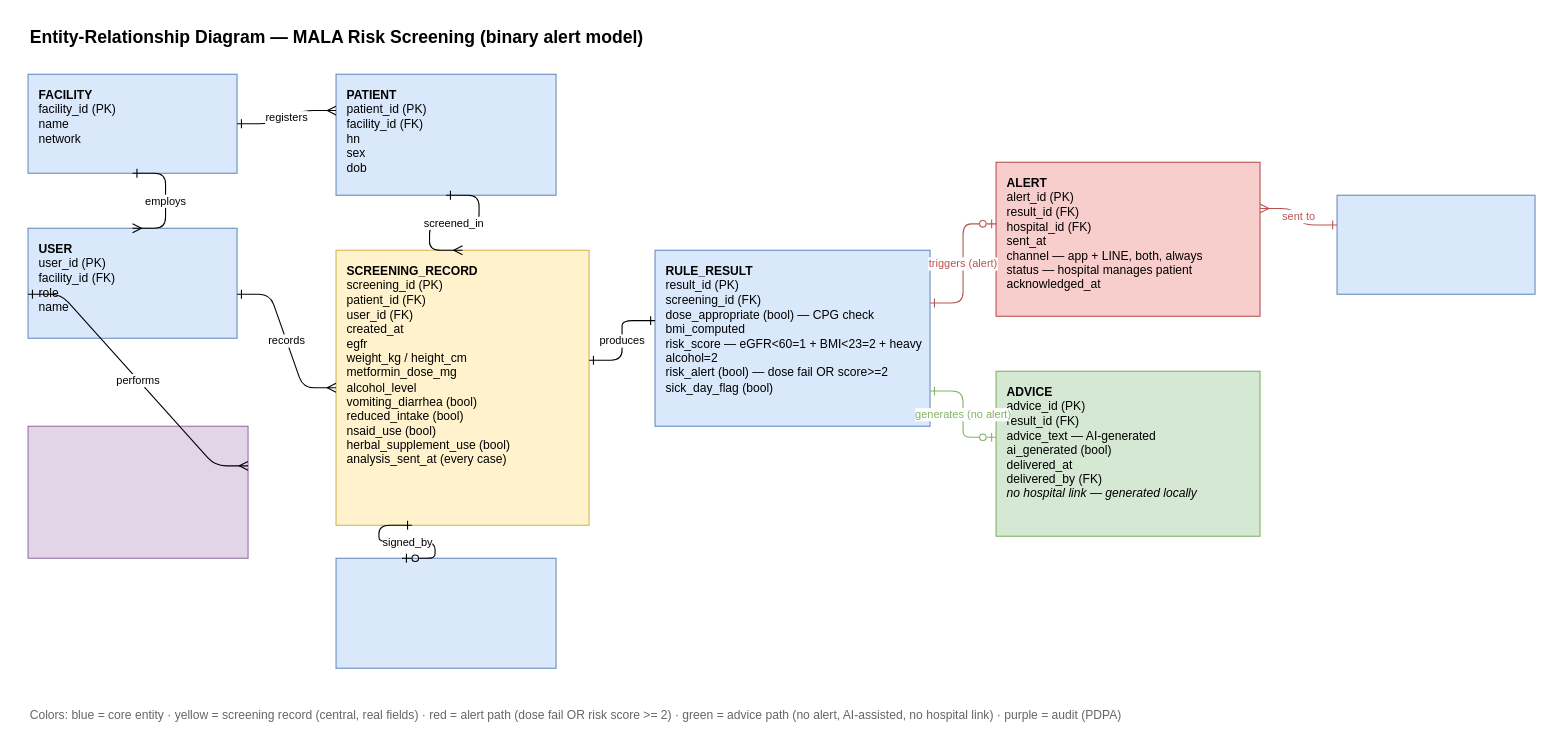
Image size: 1554x752. Some labels were removed from this diagram. The centre of each missing label's shape, as x and y in pixels:
"APPROVAL approval_id (PK) screening_id (FK) approved_by (FK) approved_at" belongs at pixel 445 612.
"AUDIT_LOG log_id (PK) user_id (FK) action entity_type entity_id timestamp" belongs at pixel 137 491.
"HOSPITAL hospital_id (PK) name line_group_id" belongs at pixel 1435 244.
